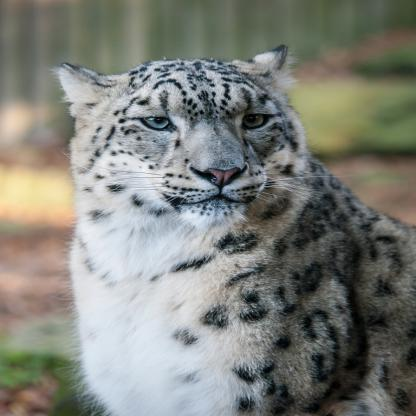leopard: (53, 46, 317, 234)
